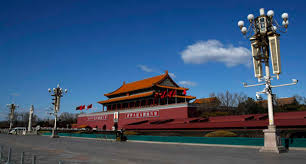sky: (1, 3, 248, 79)
